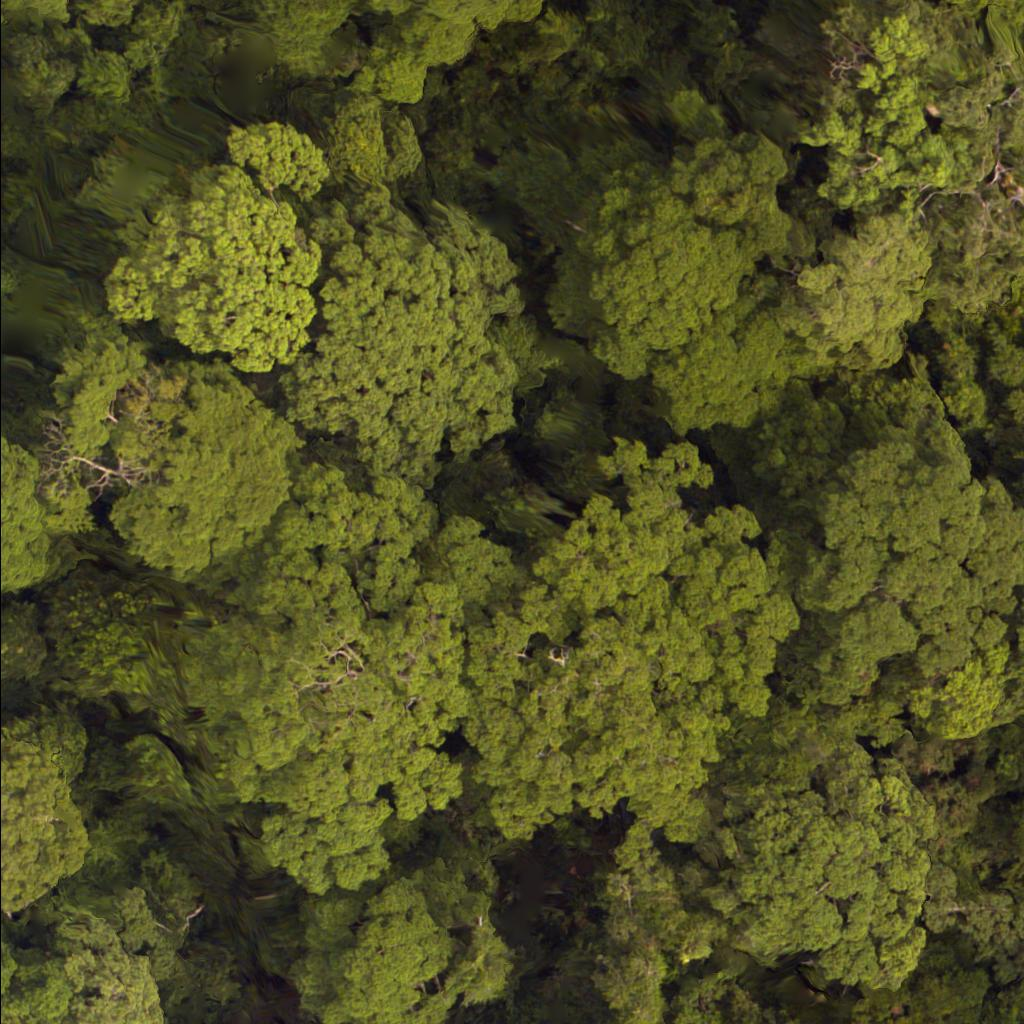crown: (176, 462, 520, 903), (615, 722, 986, 1004), (797, 15, 1023, 365), (557, 142, 817, 444), (787, 434, 1023, 750), (285, 211, 546, 478), (121, 114, 344, 344), (257, 853, 506, 1023), (0, 439, 66, 590), (64, 953, 168, 1023), (368, 0, 552, 34), (1006, 608, 1023, 722)
